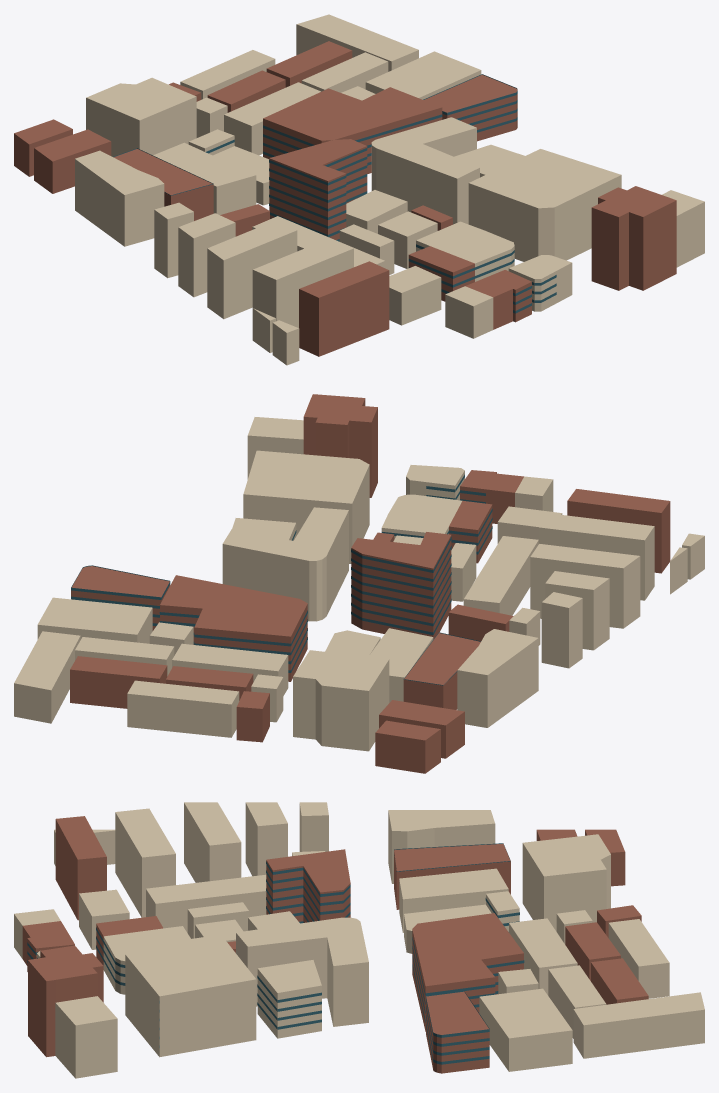
Rendered from city_-4_1.glb.
3 renders of one model, top to bottom at view 1: azimuth 30°, elevation 25°; view 2: azimuth 150°, elevation 25°; view 3: azimuth 270°, elevation 25°, orthographic. The views are drawn at different scales.
Parts seen in each view (by area): view 1: city_-4_1; view 2: city_-4_1; view 3: city_-4_1.
Boxes of the visible parts, x1,y1,x2,y2 form: city_-4_1: (14,14,704,365); city_-4_1: (14,394,704,773); city_-4_1: (14,802,704,1078).
Bounding box in the file's own units: 207 × 34 × 280.
